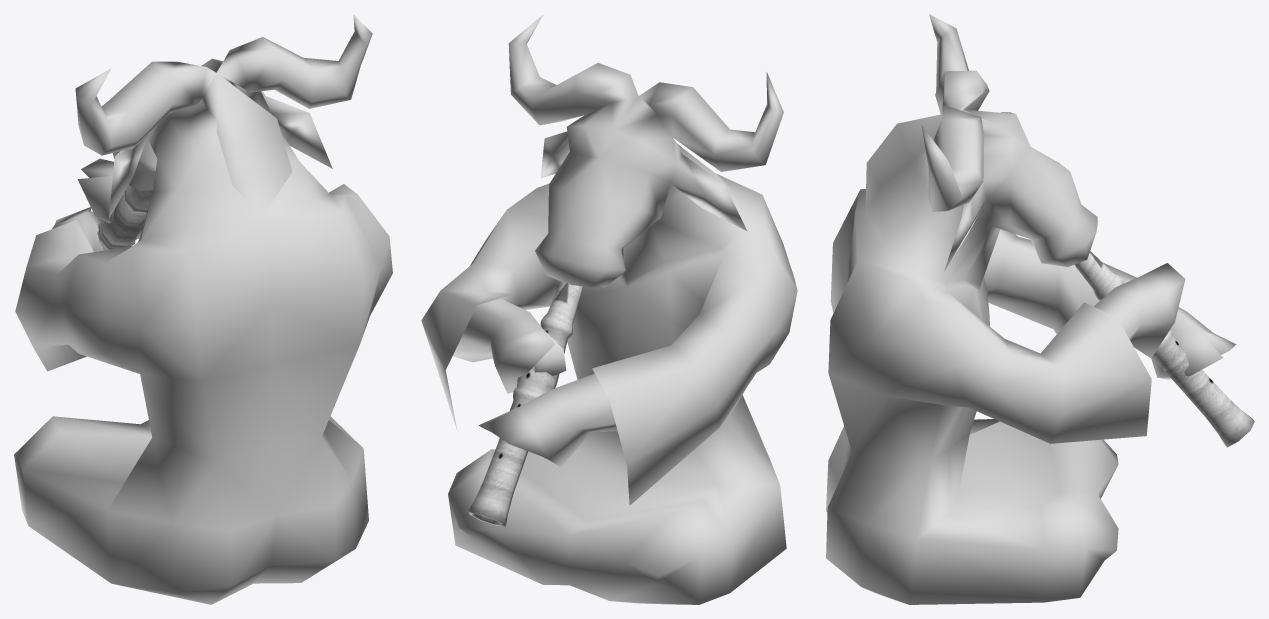
Rendered from Gnu_intro.glb.
3 views of the same model, side by side, from view 1: azimuth 30°, elevation 25°; view 2: azimuth 150°, elevation 25°; view 3: azimuth 270°, elevation 25° (orthographic). The views are drawn at different scales.
Visible parts, largest first — view 1: stktex_gnuMeditation_a.png__, flute.jpg__; view 2: stktex_gnuMeditation_a.png__, flute.jpg__; view 3: stktex_gnuMeditation_a.png__, flute.jpg__.
Part boxes in pixels (x1,y1,x2,y2): stktex_gnuMeditation_a.png__: (14, 14, 392, 604); flute.jpg__: (97, 185, 152, 250); stktex_gnuMeditation_a.png__: (421, 14, 797, 604); flute.jpg__: (468, 281, 583, 527); stktex_gnuMeditation_a.png__: (826, 14, 1236, 604); flute.jpg__: (1074, 251, 1254, 447).
Bounding box in the file's own units: 1.58 × 2.54 × 1.94.
2 materials, 1 textured.
